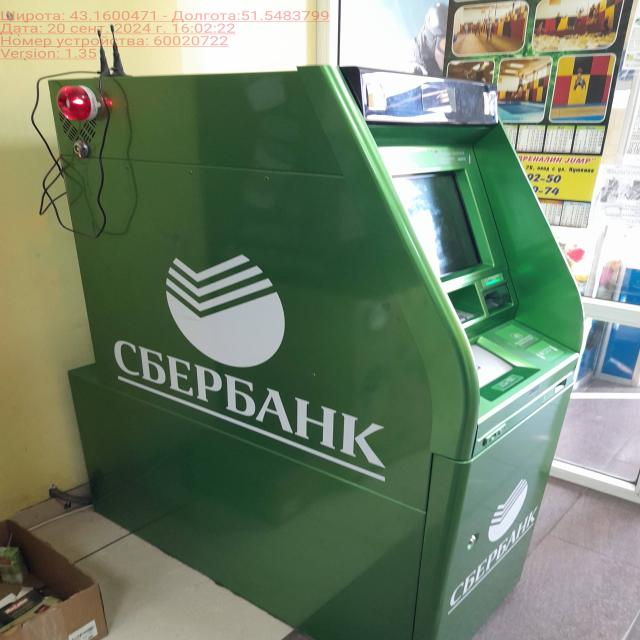bank: (46, 67, 593, 640)
